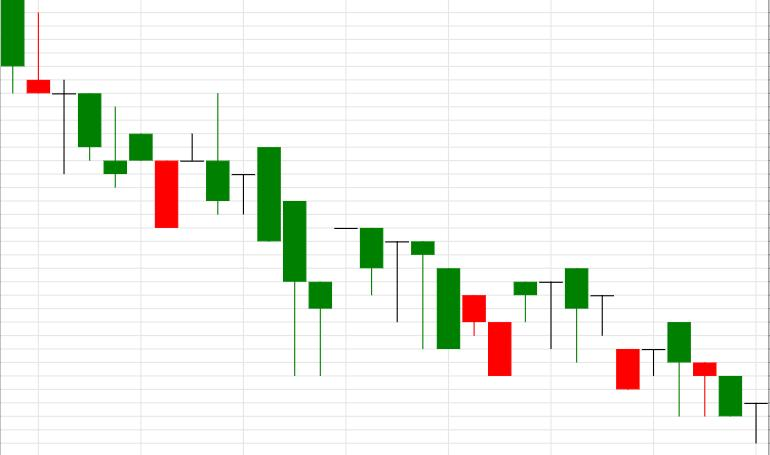hammer_rise: (181, 94, 332, 375)
